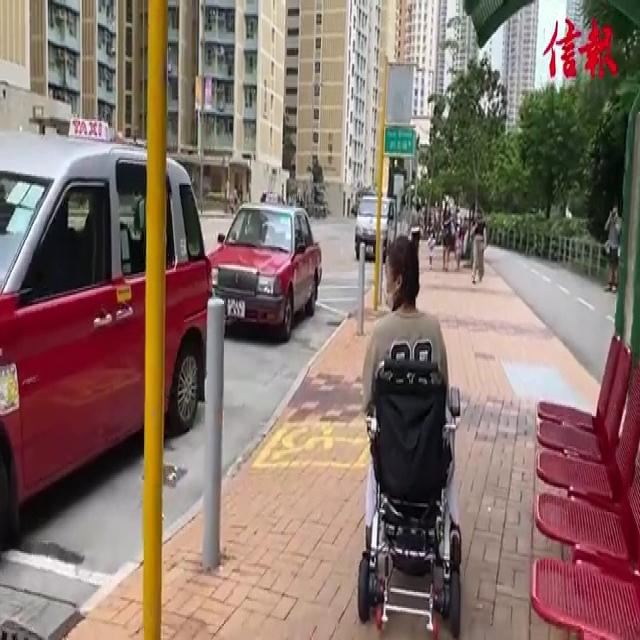wheelchairs: (340, 334, 475, 638)
